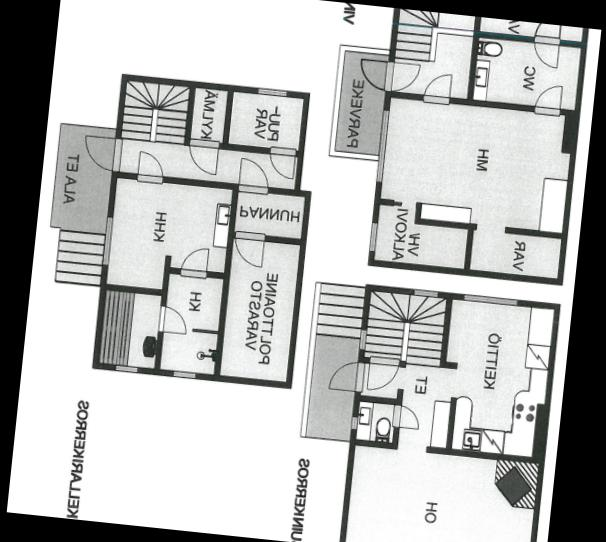door: (78, 132, 123, 174), (232, 155, 274, 198), (227, 228, 268, 270), (185, 135, 222, 177), (356, 51, 392, 94), (383, 58, 421, 96), (362, 355, 400, 392), (328, 358, 365, 395), (132, 149, 167, 187), (420, 70, 454, 108), (176, 244, 210, 282), (263, 144, 297, 180), (527, 36, 560, 72), (530, 82, 562, 118), (155, 305, 188, 338), (388, 406, 420, 432), (532, 22, 562, 46)
window: (371, 106, 393, 188), (94, 212, 118, 270), (456, 290, 522, 310), (363, 217, 381, 258), (251, 83, 292, 101), (166, 367, 200, 384), (406, 286, 442, 302), (108, 362, 142, 378), (353, 326, 370, 354), (347, 412, 361, 434)
